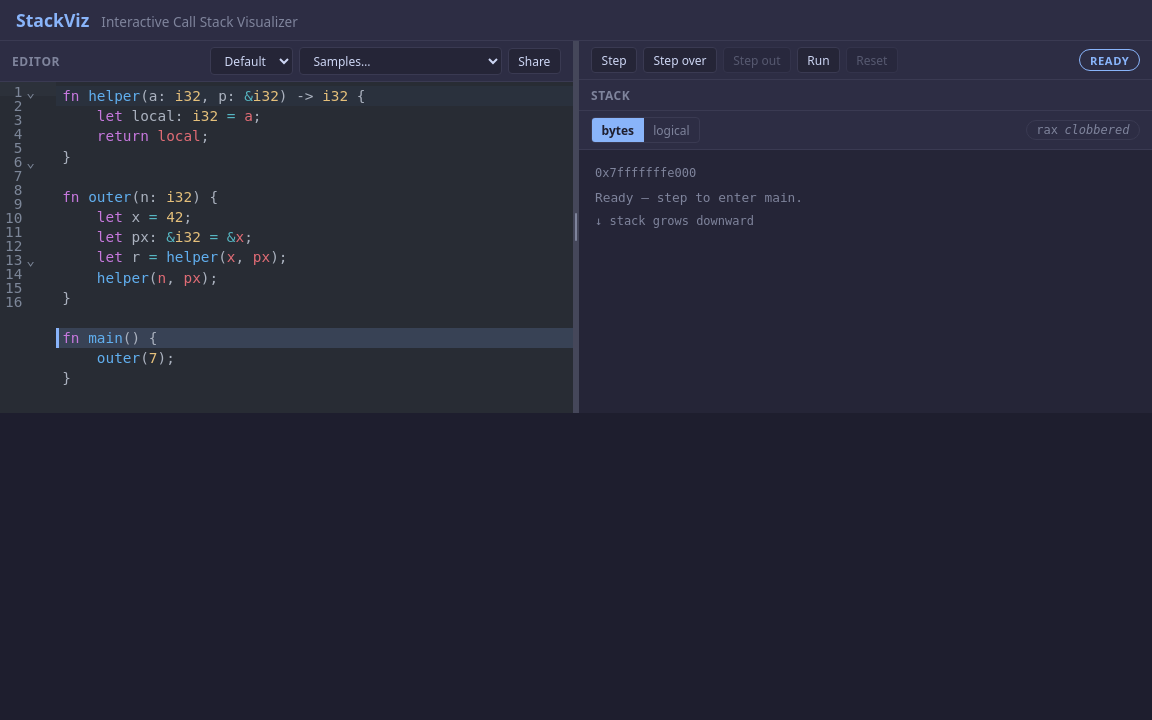
Test: App shell › reset returns to the ready state
What coordinates should you click on to do the following:
click the button "Step"
I would click on:
 (614, 60)
Its box is top-left (591, 47), bottom-right (637, 73).
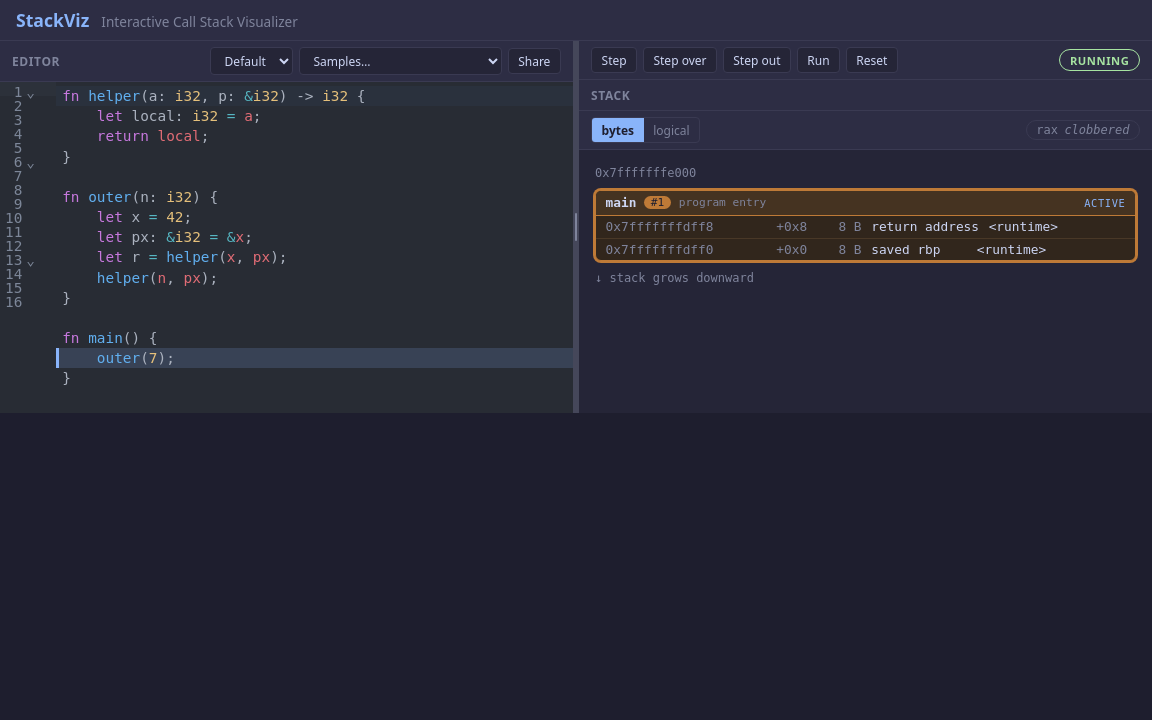
What coordinates should you click on to do the following:
click the button "Step"
I would click on:
 (614, 60)
Its box is top-left (591, 47), bottom-right (637, 73).
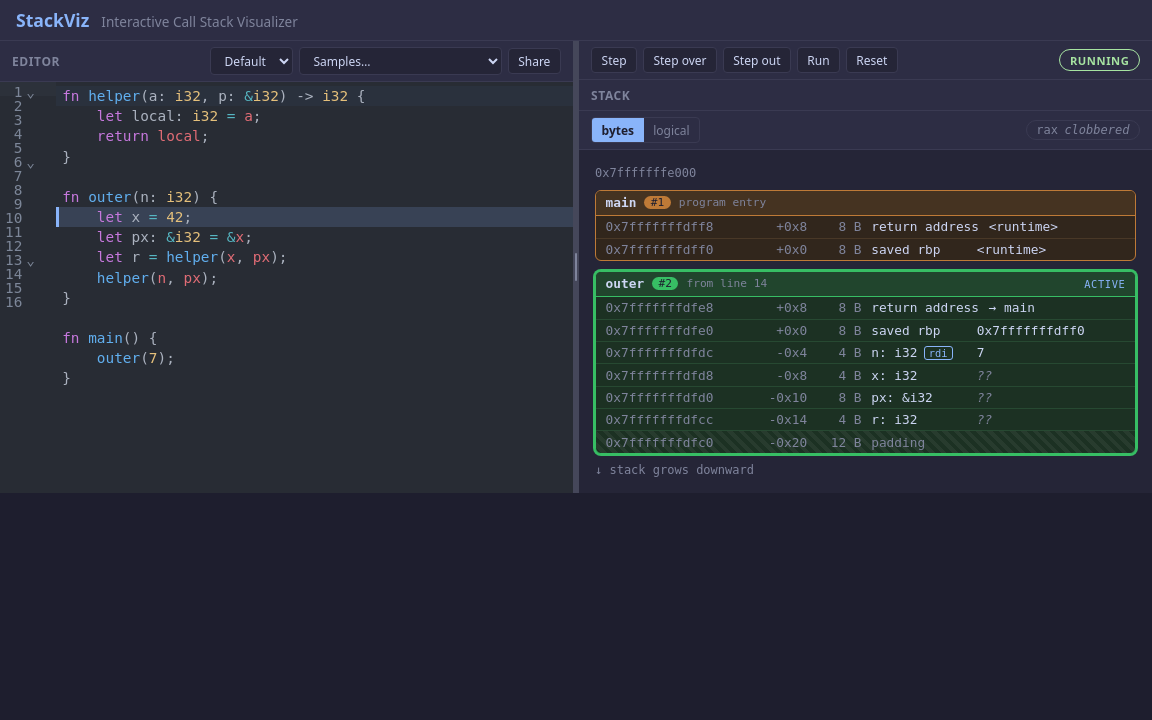
What coordinates should you click on to do the following:
click the button "Reset"
I would click on:
 (872, 60)
Its box is top-left (846, 47), bottom-right (898, 73).
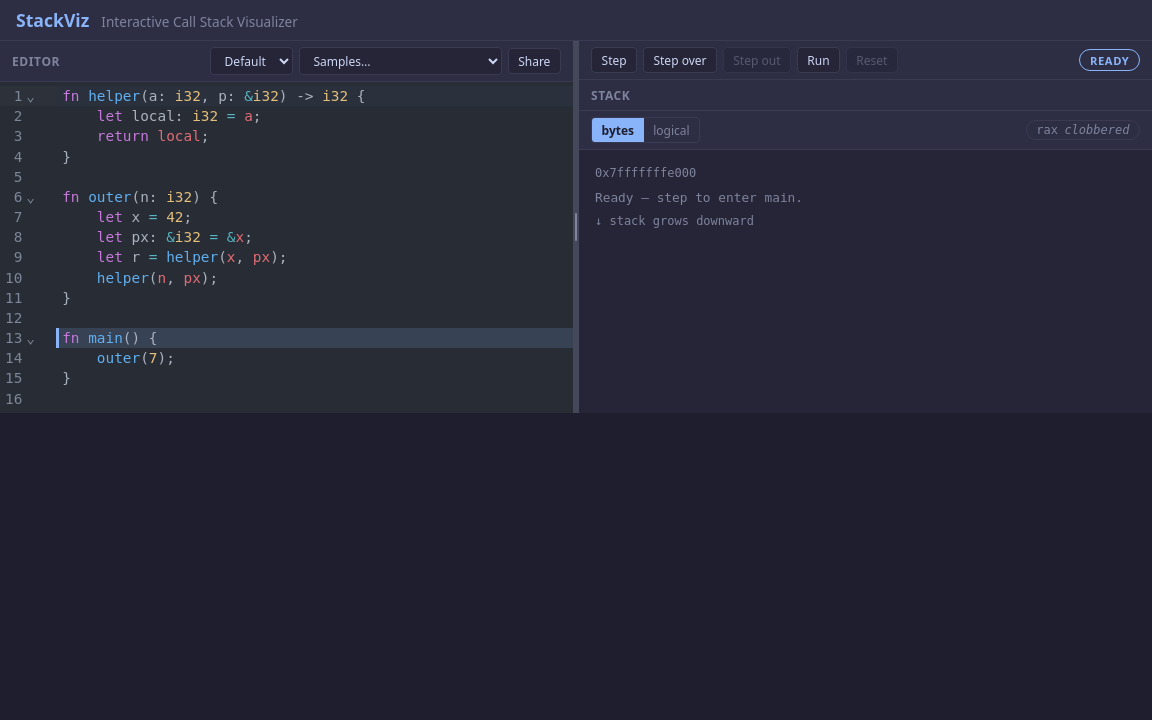
Now the message named "Execution status" reads "ready", box top-left (1090, 53), bottom-right (1129, 68)
